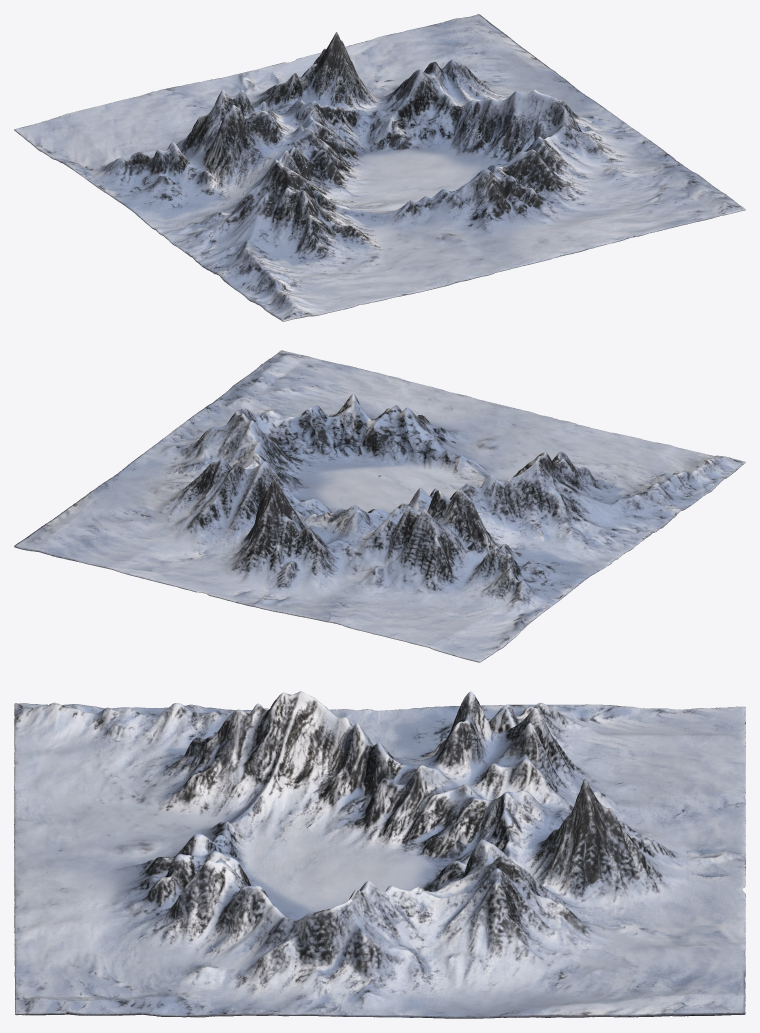
Rendered from Meshy_AI_Snowbound_Caldera_1017080829_texture.fbx.
3 renders of one model, top to bottom at view 1: azimuth 30°, elevation 25°; view 2: azimuth 150°, elevation 25°; view 3: azimuth 270°, elevation 25°, orthographic. The views are drawn at different scales.
Visible parts, largest first — view 1: Mesh_0; view 2: Mesh_0; view 3: Mesh_0.
Part boxes in pixels (left/top/right/bottom): Mesh_0: left=14, top=14, right=745, bottom=321; Mesh_0: left=14, top=350, right=745, bottom=662; Mesh_0: left=14, top=691, right=745, bottom=1018.
Bounding box in the file's own units: 191 × 31.9 × 191.
1 material, 1 textured.
